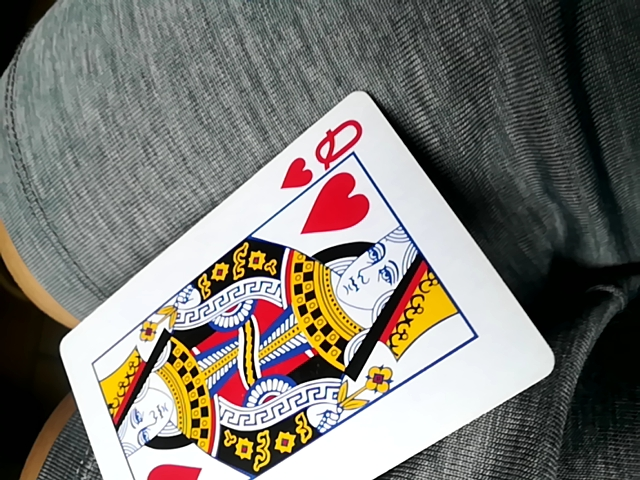hx q: (51, 92, 555, 478)
